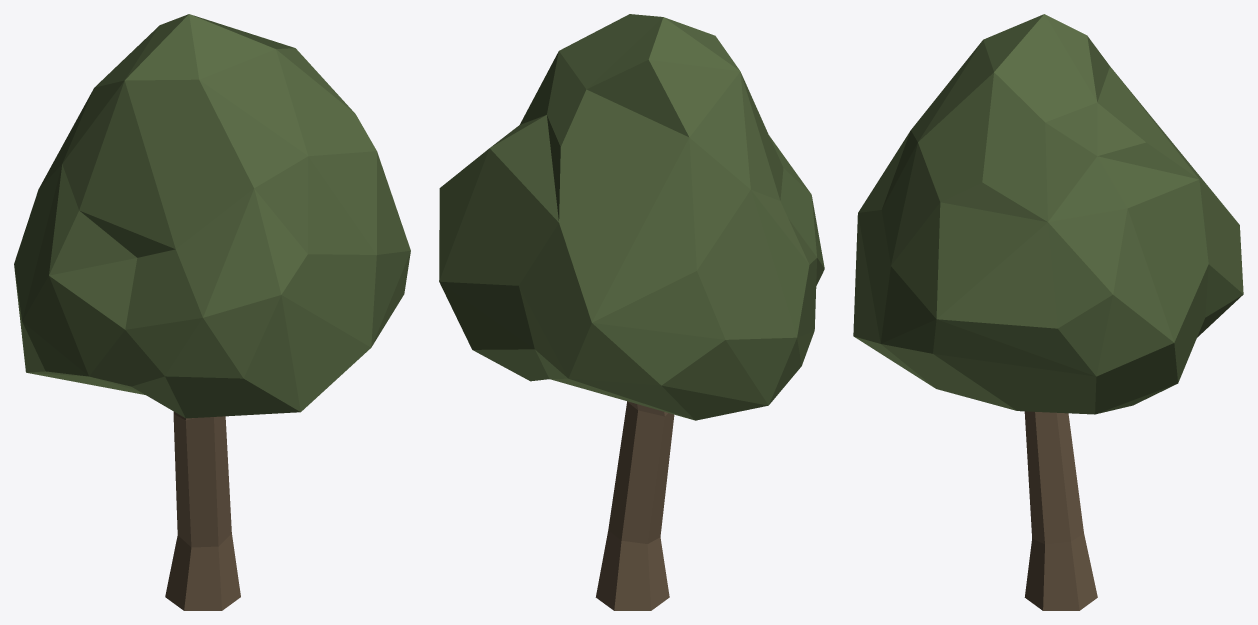
The model's file is SM_Envr_Nature_Tree_02.fbx.
3 views of the same model, side by side, from view 1: azimuth 30°, elevation 25°; view 2: azimuth 150°, elevation 25°; view 3: azimuth 270°, elevation 25° (orthographic). The views are drawn at different scales.
Visible parts, largest first — view 1: SM_Envr_Nature_Tree_02; view 2: SM_Envr_Nature_Tree_02; view 3: SM_Envr_Nature_Tree_02.
Part boxes in pixels (bbox=[...]): SM_Envr_Nature_Tree_02: bbox=[14, 14, 410, 610]; SM_Envr_Nature_Tree_02: bbox=[439, 14, 824, 610]; SM_Envr_Nature_Tree_02: bbox=[853, 14, 1243, 610].
Size of the model in its own units: 290 by 467 by 289.
